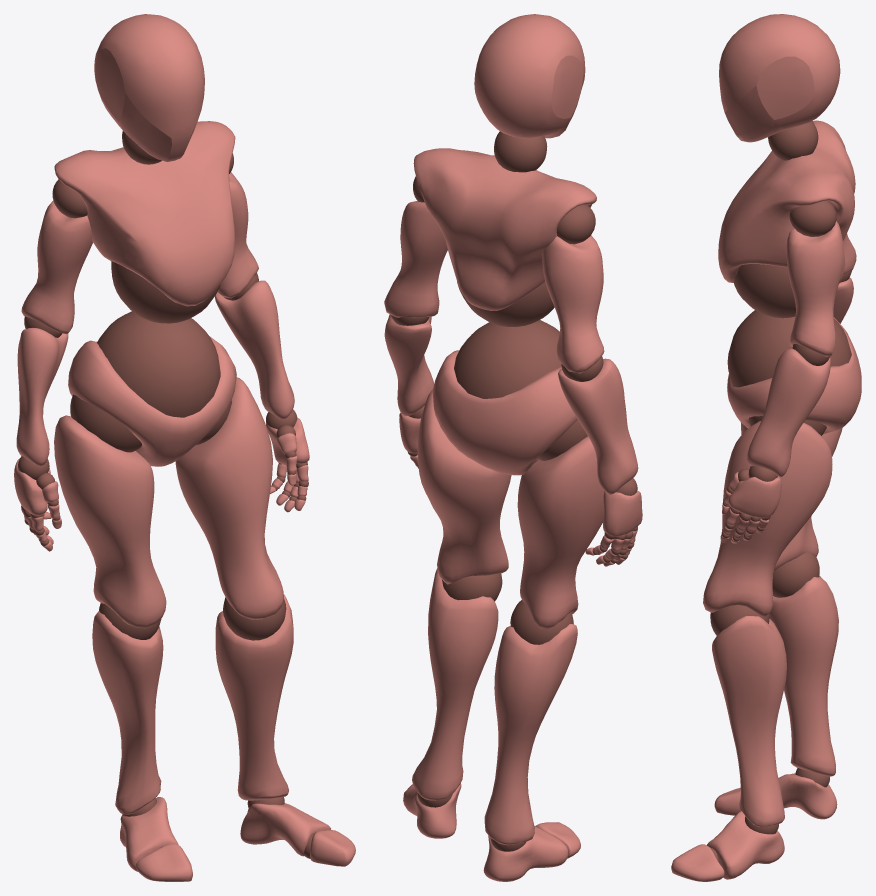
The model's file is reference_mixamoYbot.fbx.
The picture shows the model from 3 angles, left to right: view 1: azimuth 30°, elevation 25°; view 2: azimuth 150°, elevation 25°; view 3: azimuth 270°, elevation 25°; orthographic projection. The views are drawn at different scales.
Parts seen in each view (by area): view 1: mesh_mixamoYbotBase, mesh_mixamoYbotJoints; view 2: mesh_mixamoYbotBase, mesh_mixamoYbotJoints; view 3: mesh_mixamoYbotBase, mesh_mixamoYbotJoints.
Part boxes in pixels (<box>): mesh_mixamoYbotBase: <box>14,14,355,881</box>; mesh_mixamoYbotJoints: <box>18,131,314,858</box>; mesh_mixamoYbotBase: <box>384,14,642,881</box>; mesh_mixamoYbotJoints: <box>390,131,637,851</box>; mesh_mixamoYbotBase: <box>671,14,861,881</box>; mesh_mixamoYbotJoints: <box>710,121,851,862</box>.
Bounding box in the file's own units: 62.14 × 179 × 38.85.
